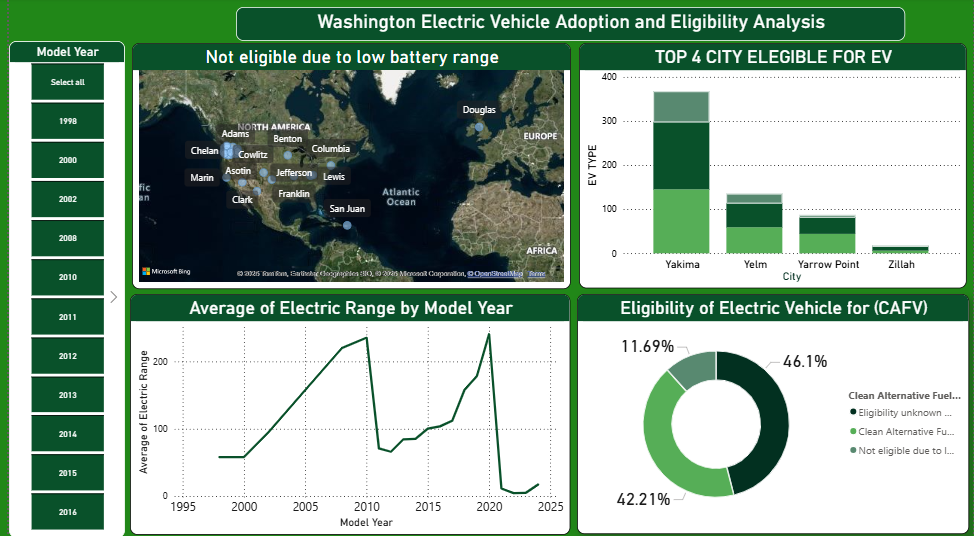

The dashboard page shown, as its layout file describes it:
{"tool":"powerbi","page":{"name":"dashboard","canvas":[1280,720],"ordinal":5},"visuals":[{"type":"columnChart","title":"TOP 4 CITY ELEGIBLE FOR EV","fields":{"Category":["Electric_Vehicle_Population_Dat.City"],"Series":["Electric_Vehicle_Population_Dat.Clean Alternative Fuel Vehicle (CAFV) Eligibility"],"Y":["CountNonNull(Electric_Vehicle_Population_Dat.Electric Vehicle Type)"]},"box":[756.6,60,515.1,326.3],"z":0},{"type":"lineChart","fields":{"Y":["Avg(Electric_Vehicle_Population_Dat.Electric Range)"],"Category":["Electric_Vehicle_Population_Dat.Model Year"]},"box":[161,393.7,585.4,320.5],"z":1000},{"type":"slicer","title":"Model Year","fields":{"Values":["Electric_Vehicle_Population_Dat.Model Year"]},"box":[0,11.7,153.7,705.4],"z":2000},{"type":"donutChart","title":"Eligibility of Electric Vehicle for (CAFV) ","fields":{"Category":["Electric_Vehicle_Population_Dat.Clean Alternative Fuel Vehicle (CAFV) Eligibility"],"Y":["CountNonNull(Electric_Vehicle_Population_Dat.Electric Vehicle Type)"]},"box":[755.1,396.6,519.5,316.1],"z":3000},{"type":"map","title":"Not eligible due to low battery range ","fields":{"Category":["Electric_Vehicle_Population_Dat.County"],"Series":["Electric_Vehicle_Population_Dat.Clean Alternative Fuel Vehicle (CAFV) Eligibility"]},"box":[163.9,60,578,323.4],"z":4000},{"type":"textbox","title":"Washington Electric Vehicle Adoption and Eligibility Analysis","box":[185.9,7.3,1062.4,45.4],"z":5000}]}

Visuals, with their boxes in screenshot pixels (x1, y1, x2, y2), scaled from the page's 1280x720 canvas onto the 974x536 screenshot:
"TOP 4 CITY ELEGIBLE FOR EV" columnChart: (576,45,968,288)
lineChart - Avg(Electric_Vehicle_Population_Dat.Electric Range) x Electric_Vehicle_Population_Dat.Model Year: (123,293,568,532)
"Model Year" slicer: (0,9,117,534)
"Eligibility of Electric Vehicle for (CAFV) " donutChart: (575,295,970,531)
"Not eligible due to low battery range " map: (125,45,565,285)
"Washington Electric Vehicle Adoption and Eligibility Analysis" textbox: (141,5,950,39)
